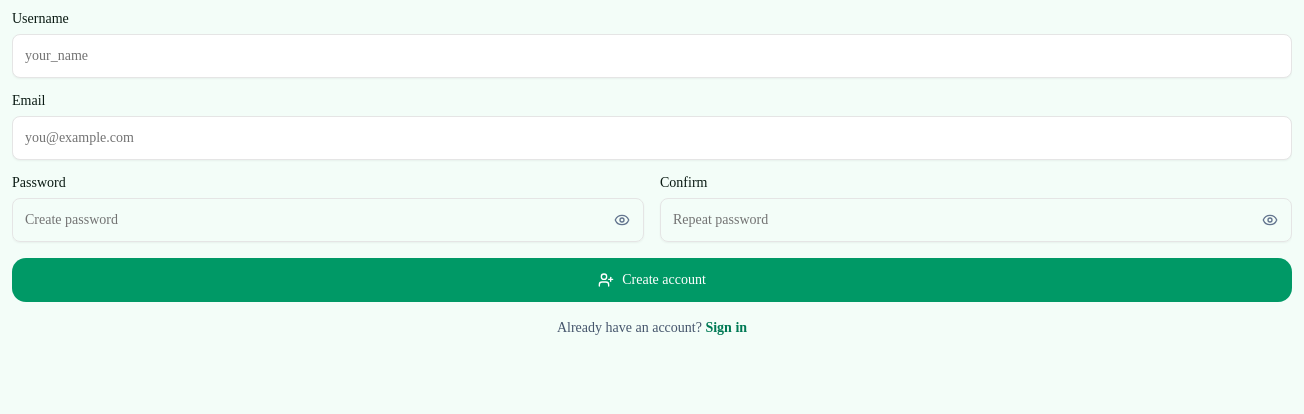
Scenario: RegisterForm › shows API errors without redirecting
This screenshot has width=1304, height=414.
Type "demo_user" into the field labelled "Username".
click(652, 56); type("demo_user")  # box [12,34,1292,78]
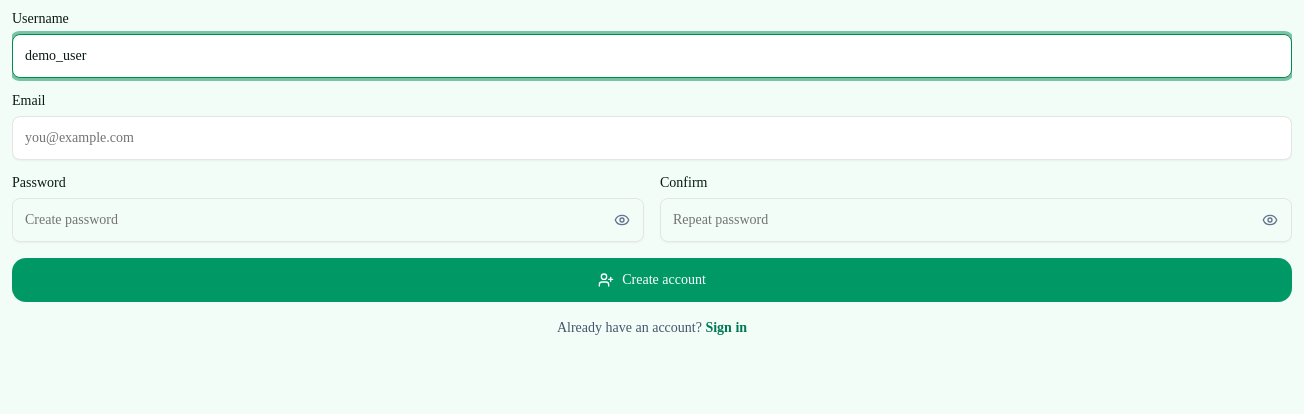
Type "demo@e.co" into the field labelled "Email".
click(652, 138); type("demo@e.co")  # box [12,116,1292,160]
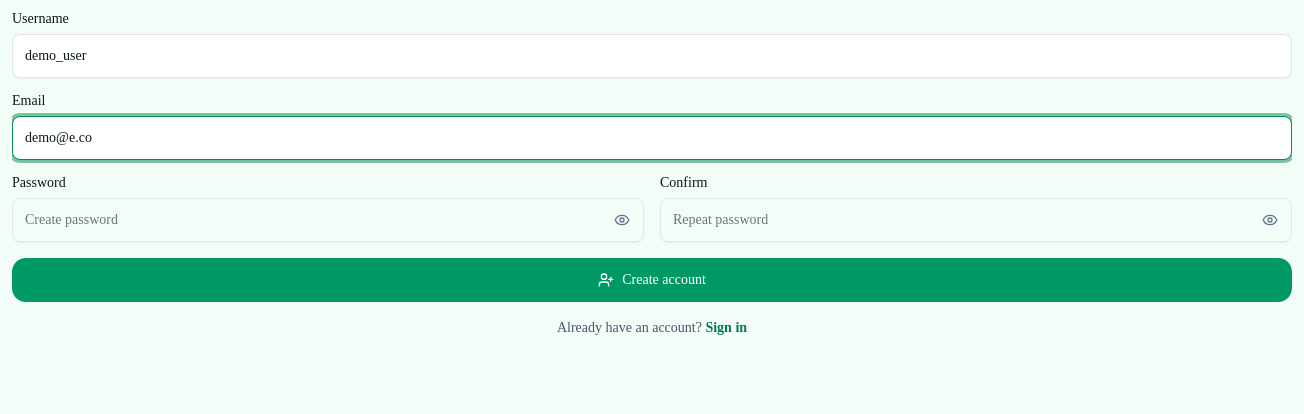
Type "secure123" into the password field labelled "Password".
click(328, 220); type("secure123")  # box [12,198,644,242]
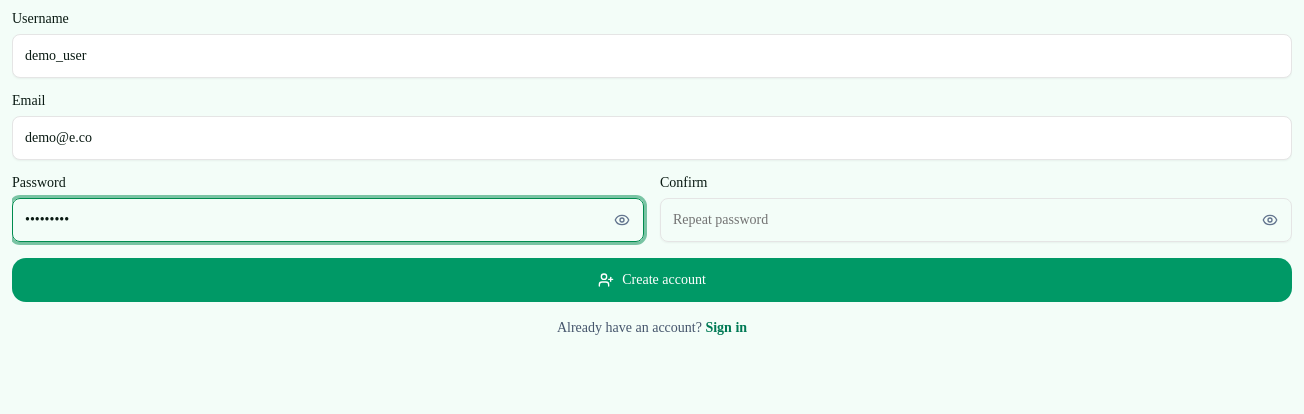
Type "secure123" into the password field labelled "Confirm".
click(976, 220); type("secure123")  # box [660,198,1292,242]
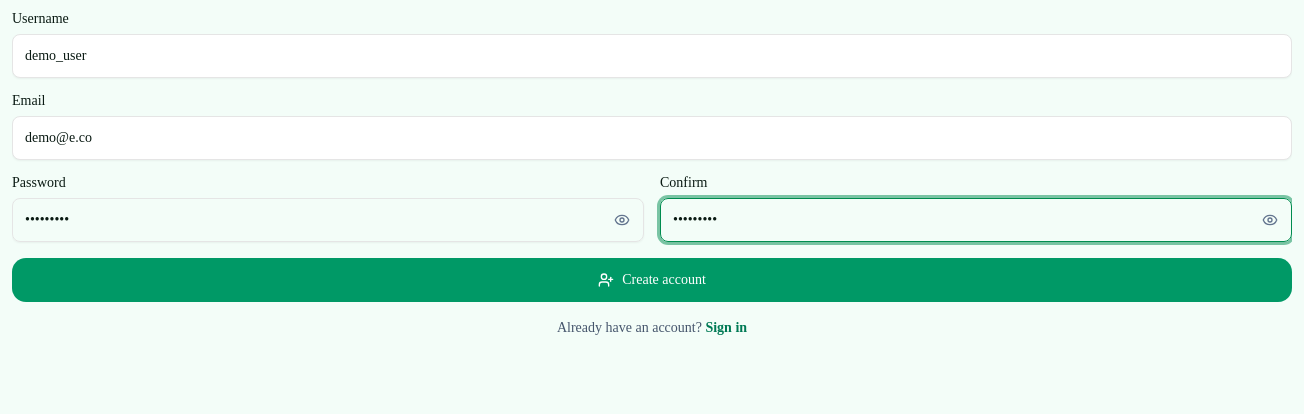
Click the button "Create account".
click(652, 280)  # box [12,258,1292,302]
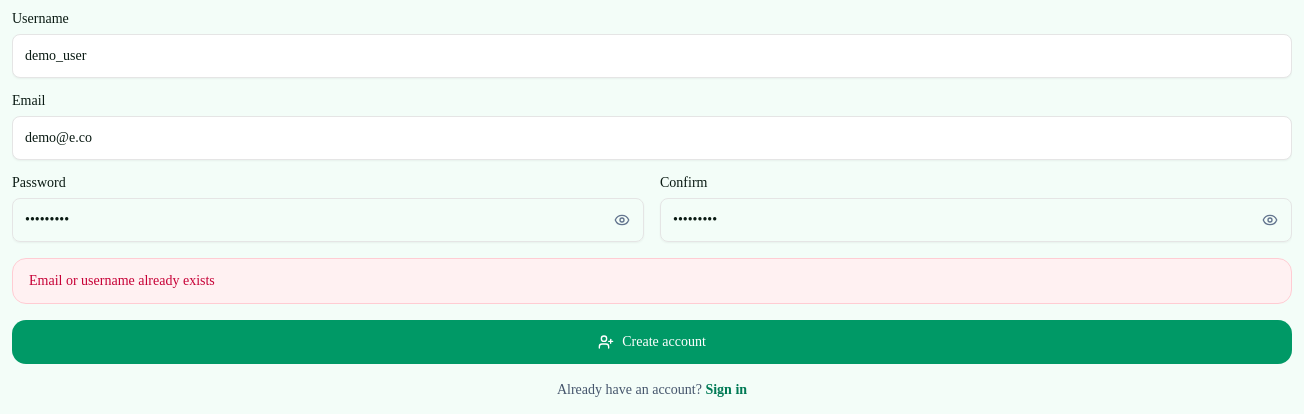
Now the message reads "Email or username already exists", box [29,273,215,288]
